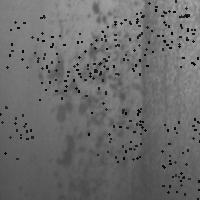pitted_surface: (35, 2, 138, 200), (141, 1, 200, 200), (37, 32, 95, 90), (88, 102, 144, 161), (49, 41, 106, 97), (96, 16, 152, 73), (0, 13, 51, 67), (161, 118, 200, 178), (0, 99, 39, 158), (161, 8, 200, 66), (136, 0, 195, 35), (162, 160, 200, 200)
